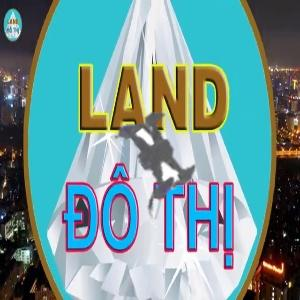drone: (52, 46, 262, 256)
